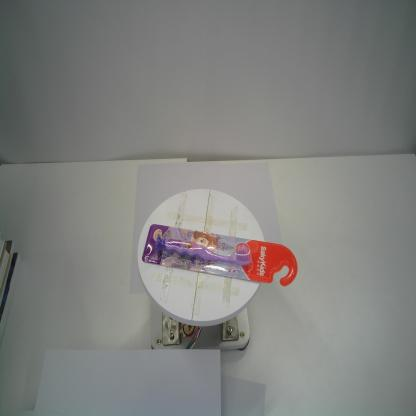Personal Hygiene: (142, 223, 298, 287)
